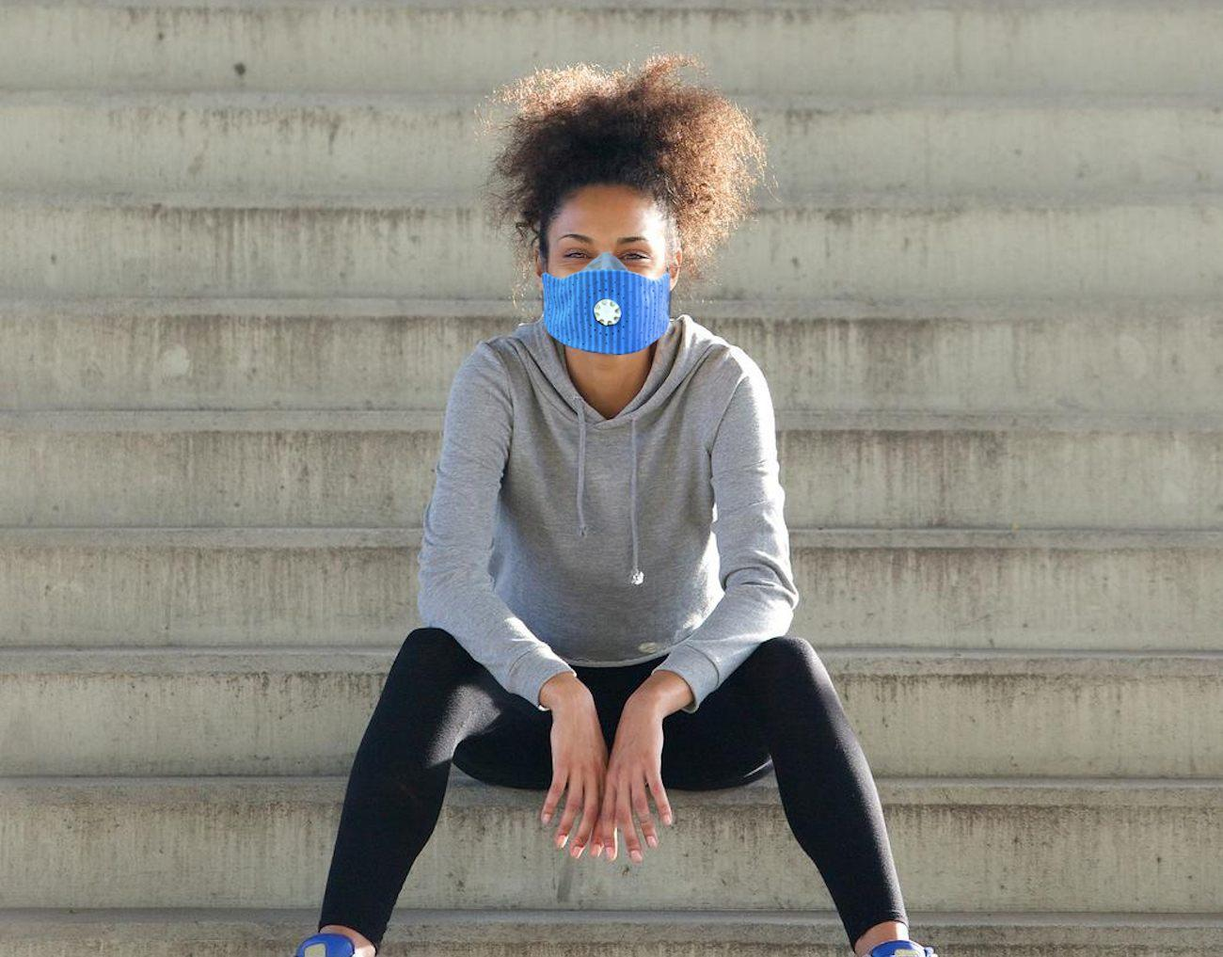Wearing Mask: (388, 15, 862, 433)
